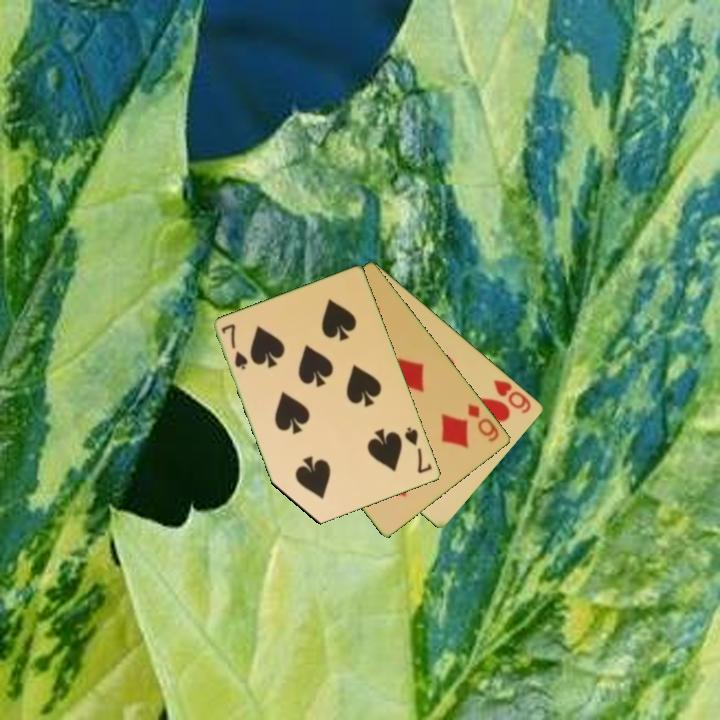6d: (464, 400, 502, 445)
6h: (490, 376, 534, 417)
7s: (401, 424, 435, 476), (218, 320, 251, 372)
